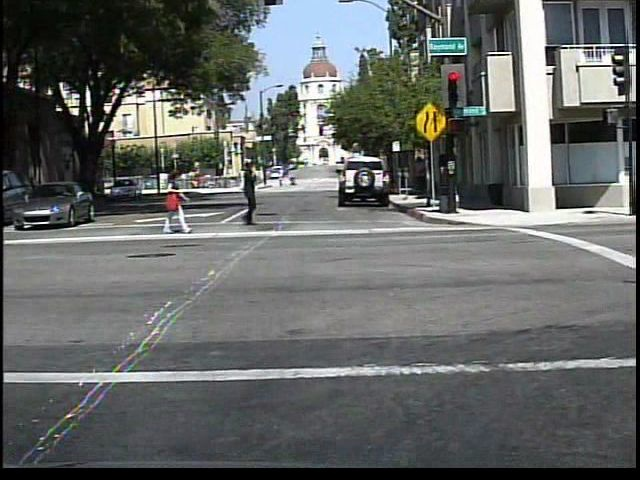person: (155, 161, 194, 236), (228, 159, 268, 231), (276, 171, 285, 191), (287, 171, 296, 189)
